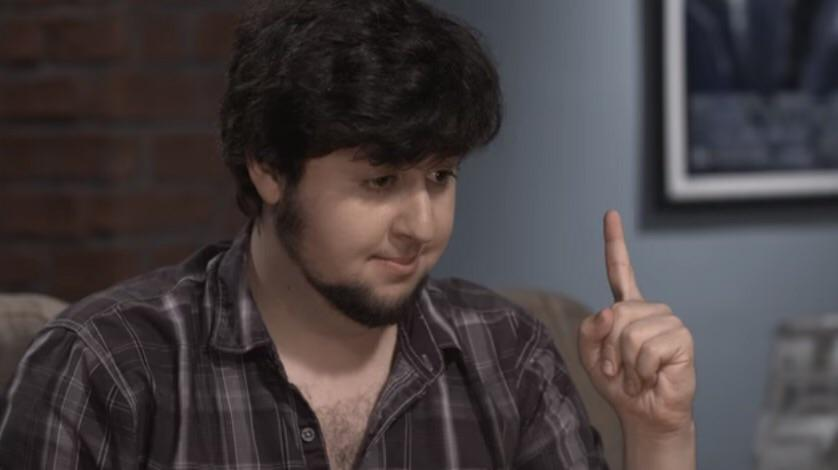move: (578, 209, 700, 423)
